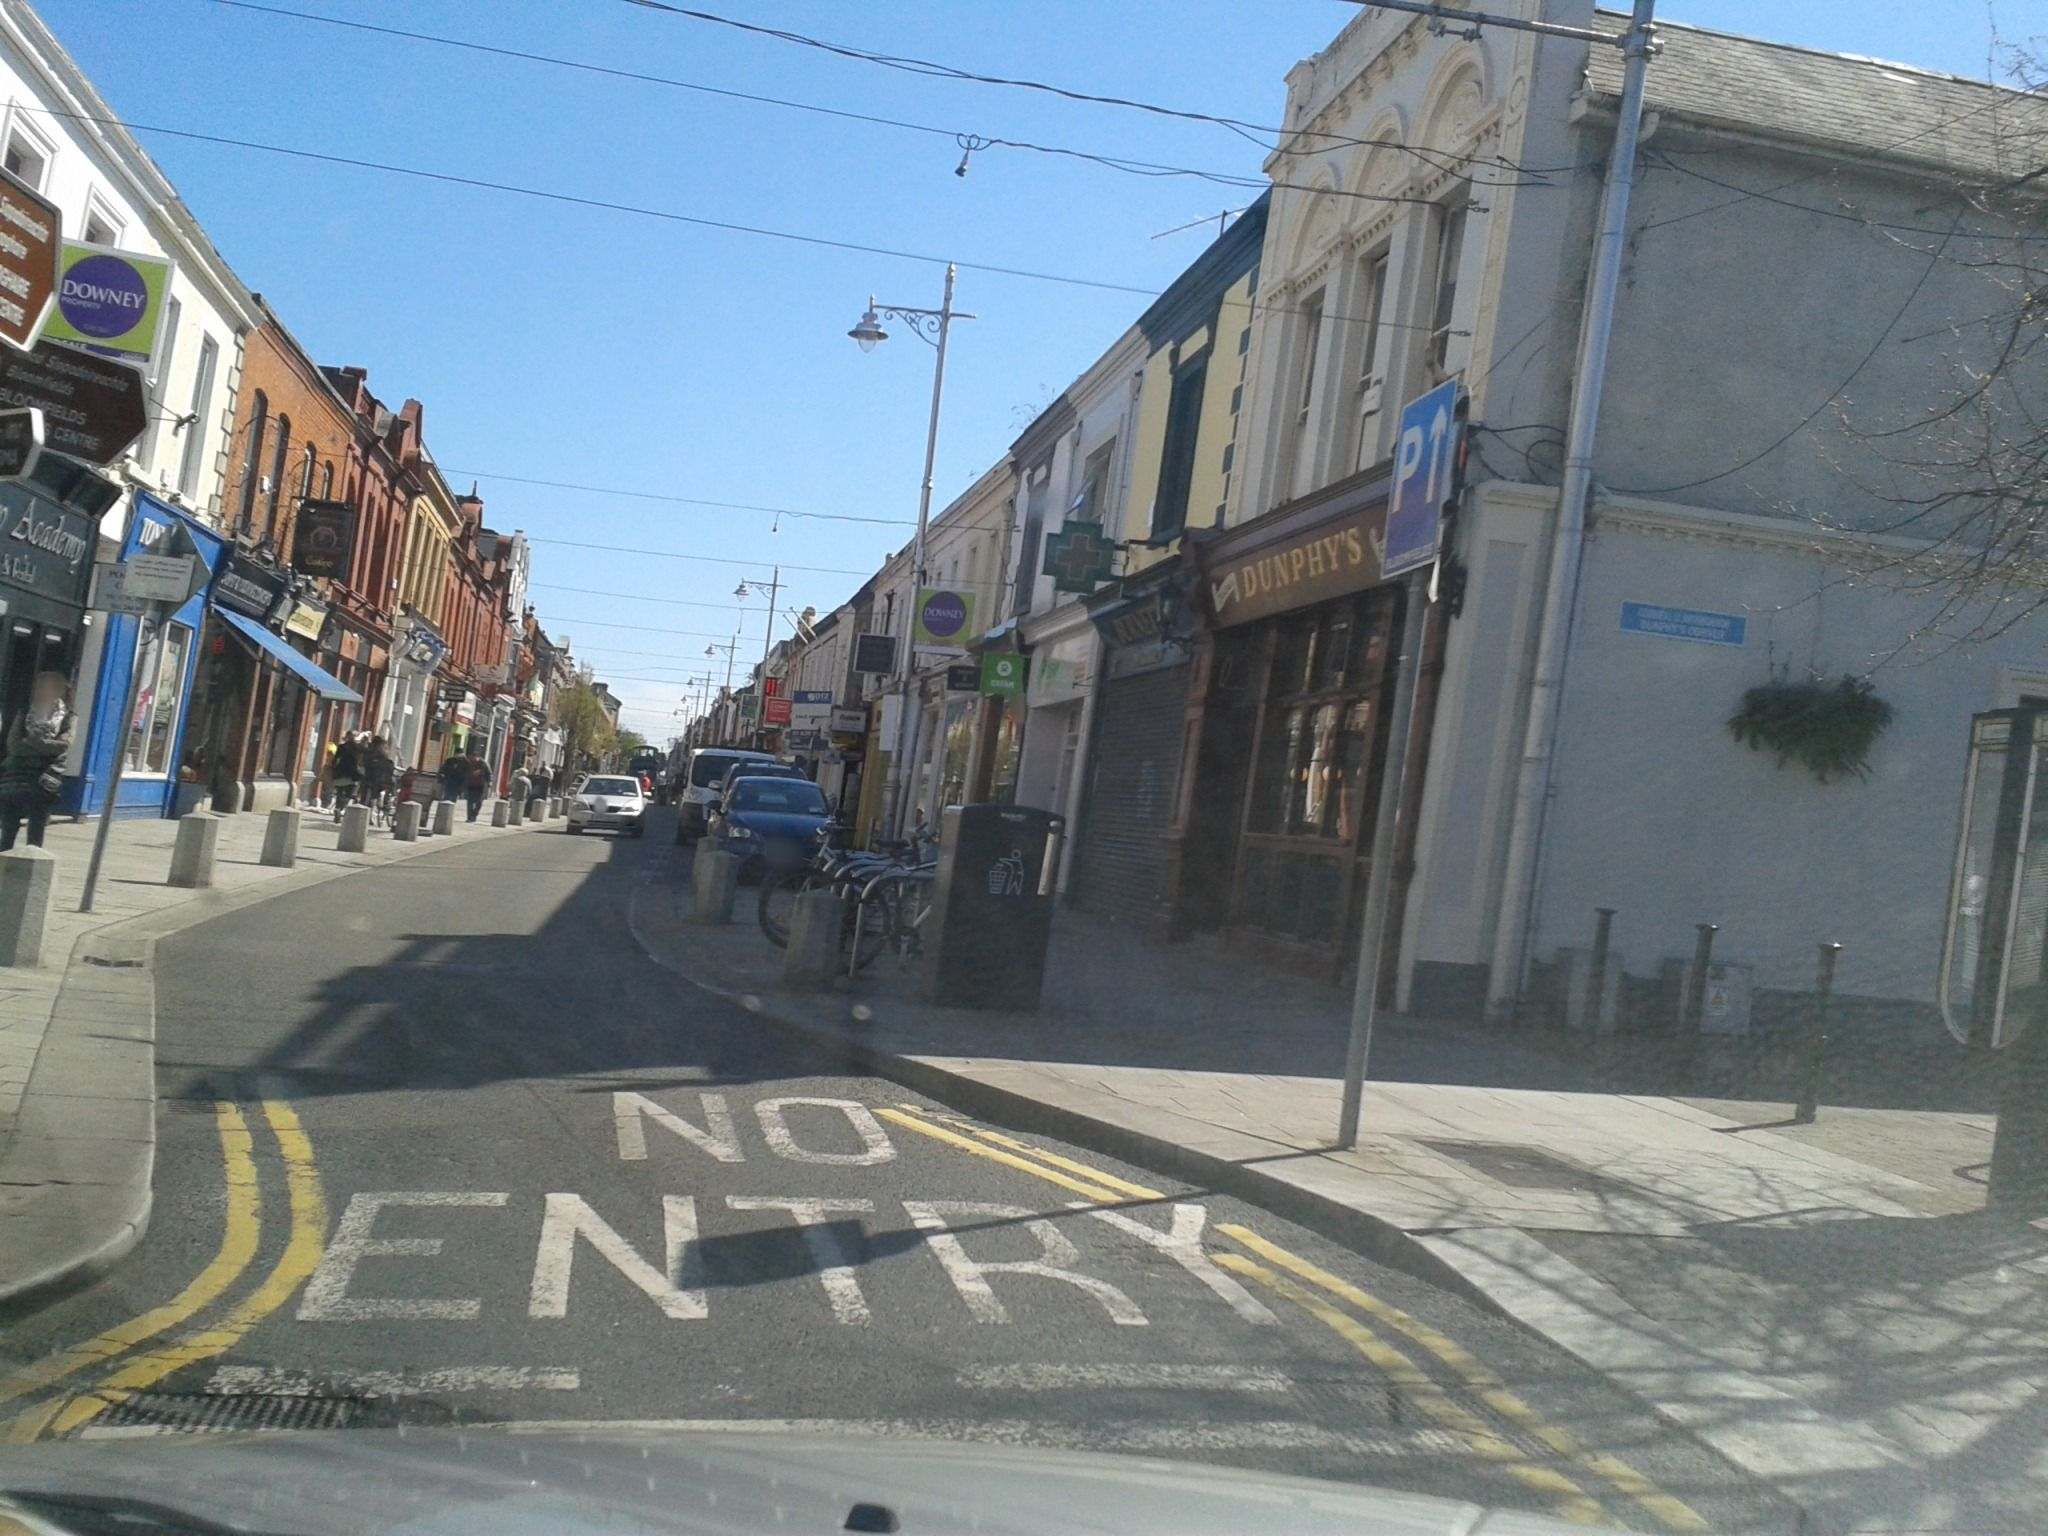property sign: (40, 216, 177, 381), (901, 566, 989, 670)
